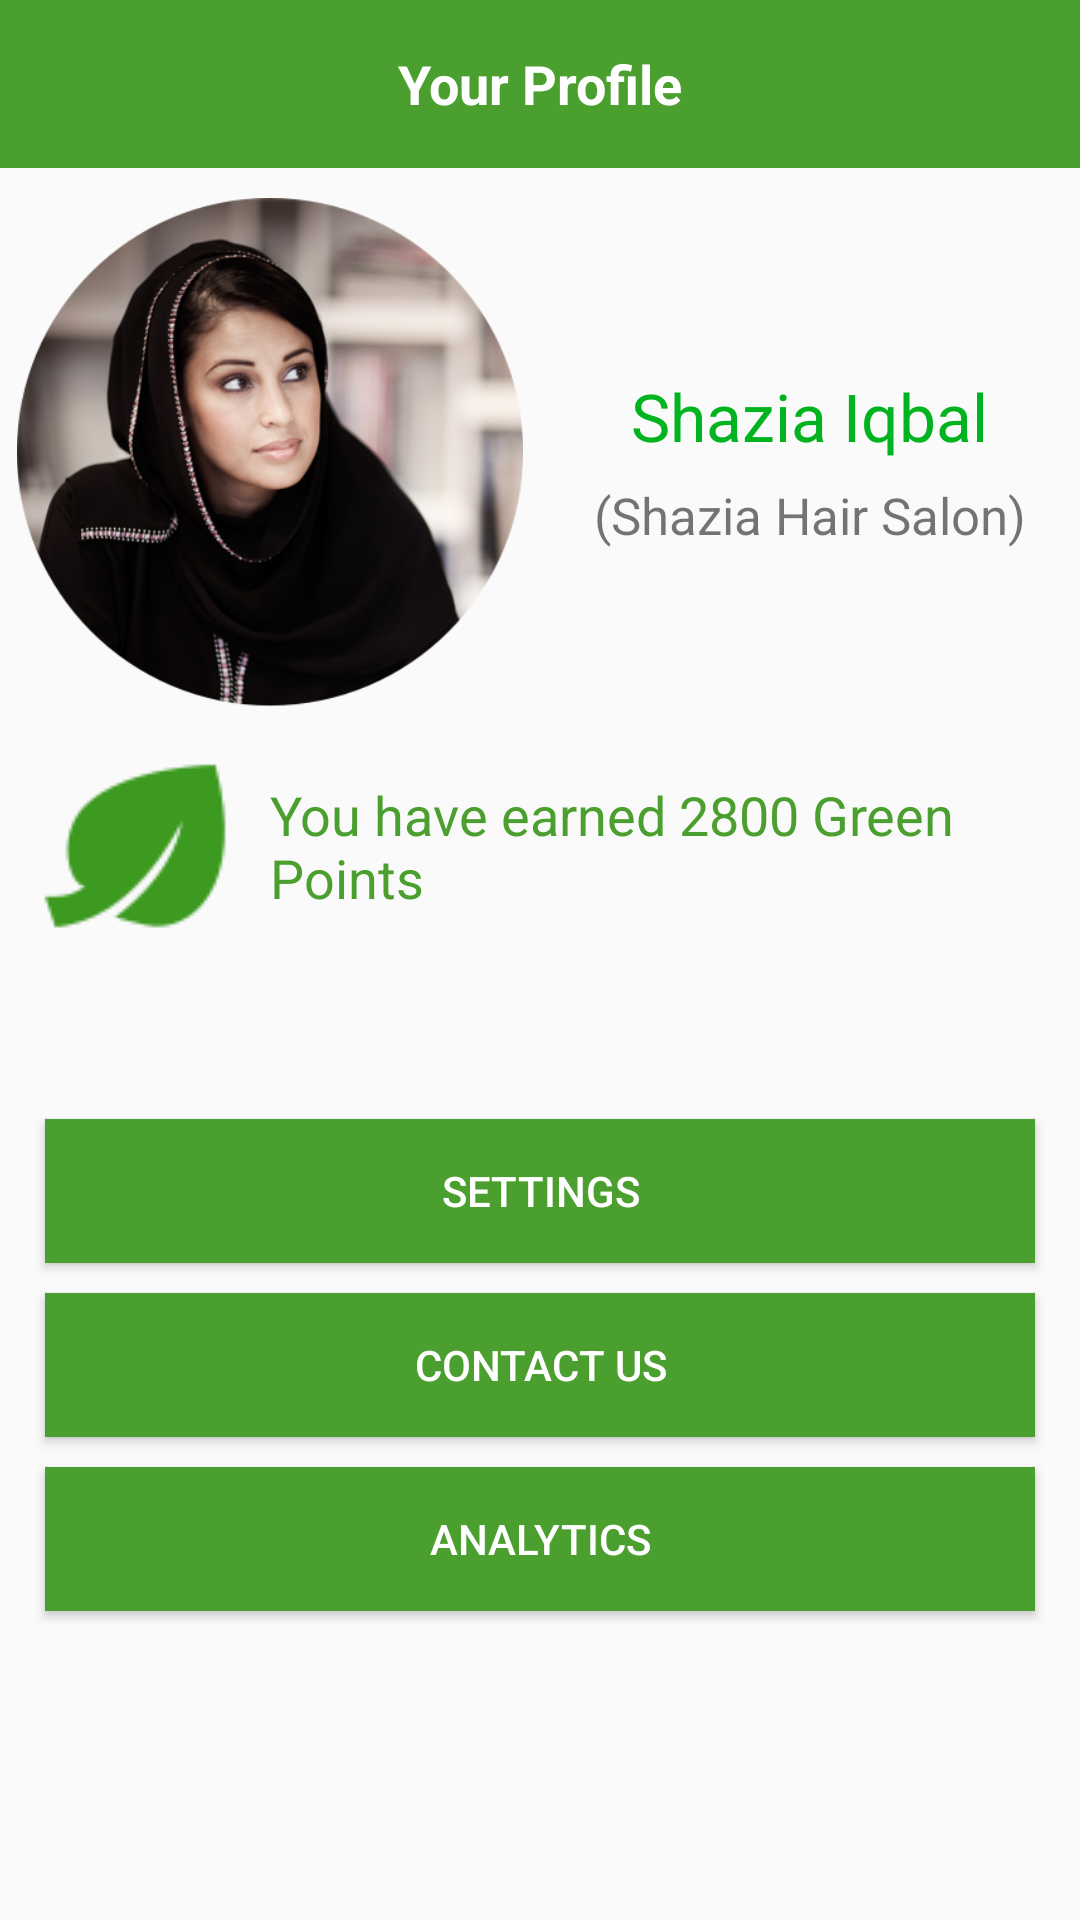

Icon bounding boxes for this 1080 × 1920 phone screenshot, format (x1, y1, x2, y2):
bigleaf: (44, 764, 226, 928)
